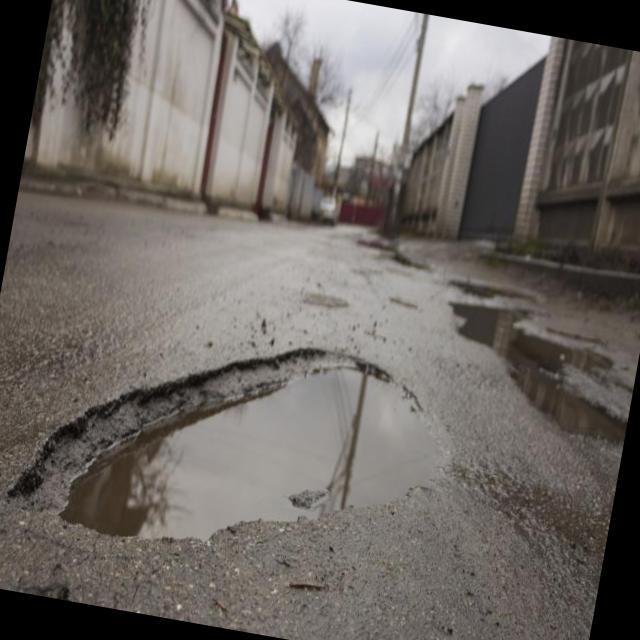Pothole: (63, 368, 436, 539)
